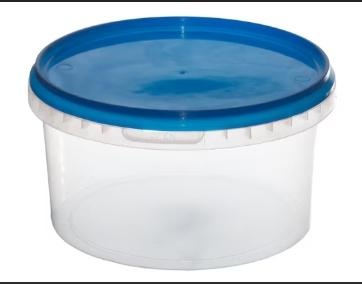SEAU: (8, 1, 360, 274)
